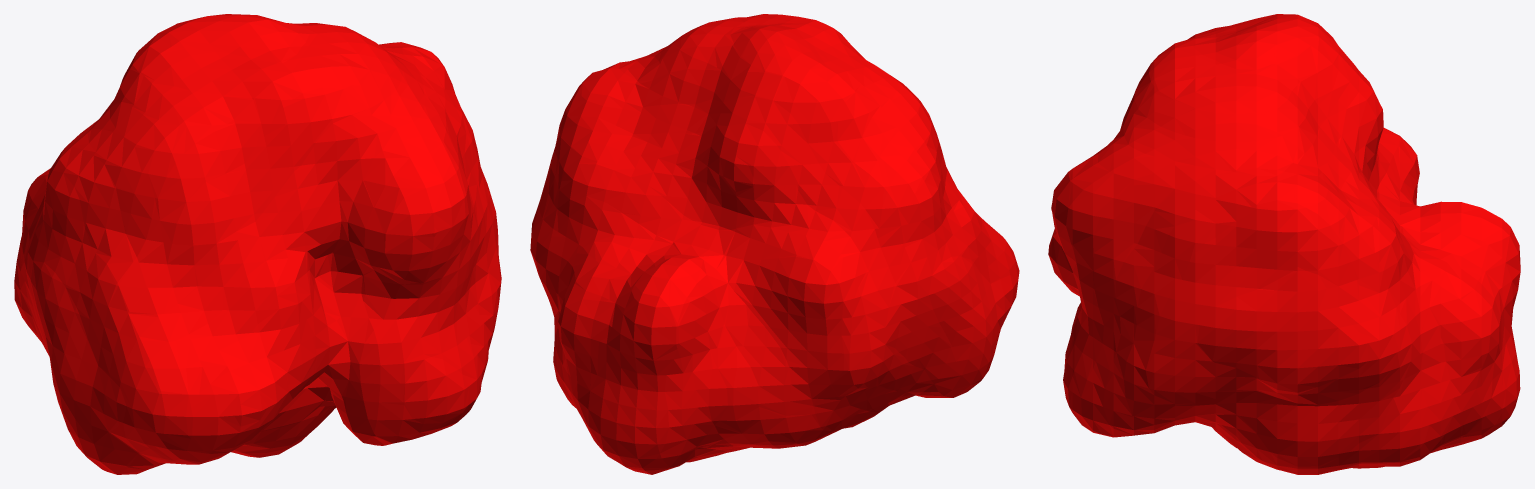
The model's file is hisF_coarse.dae.
3 views of the same model, side by side, from view 1: azimuth 30°, elevation 25°; view 2: azimuth 150°, elevation 25°; view 3: azimuth 270°, elevation 25° (orthographic). The views are drawn at different scales.
Parts seen in each view (by area): view 1: hisF; view 2: hisF; view 3: hisF.
Part boxes in pixels (x1=…): hisF: x1=14, y1=14, x2=501, y2=474; hisF: x1=530, y1=14, x2=1019, y2=474; hisF: x1=1048, y1=14, x2=1520, y2=474.
Size of the model in its own units: 49.51 by 47 by 48.81.
